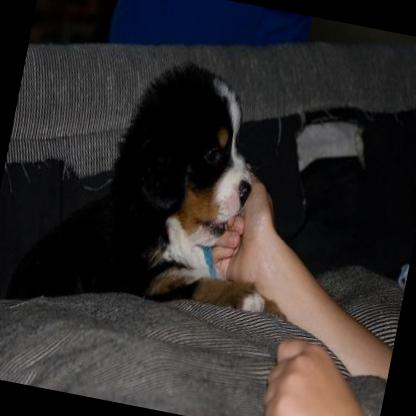Bernese_mountain_dog: (0, 27, 331, 348)
